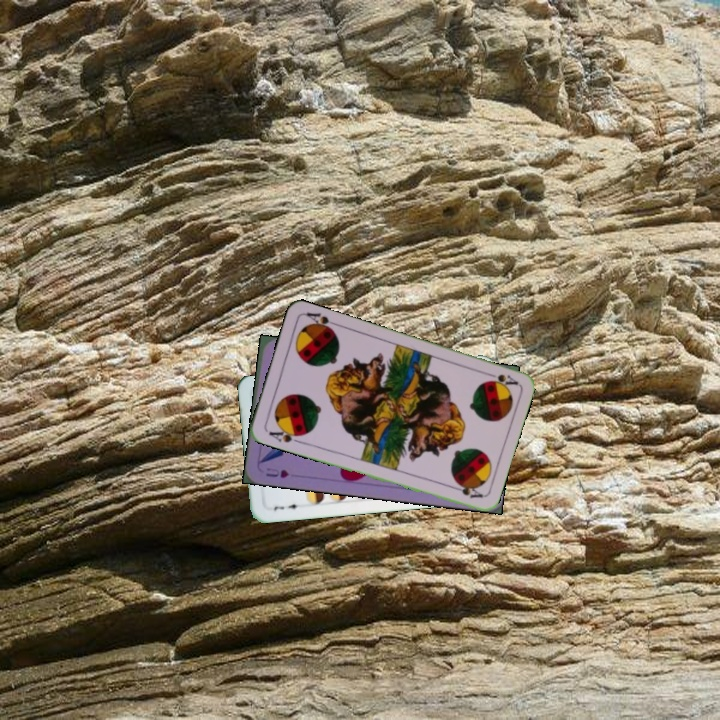E7: (269, 500, 304, 513)
HU: (262, 463, 292, 481)
SA: (265, 423, 305, 446), (480, 368, 520, 390)
